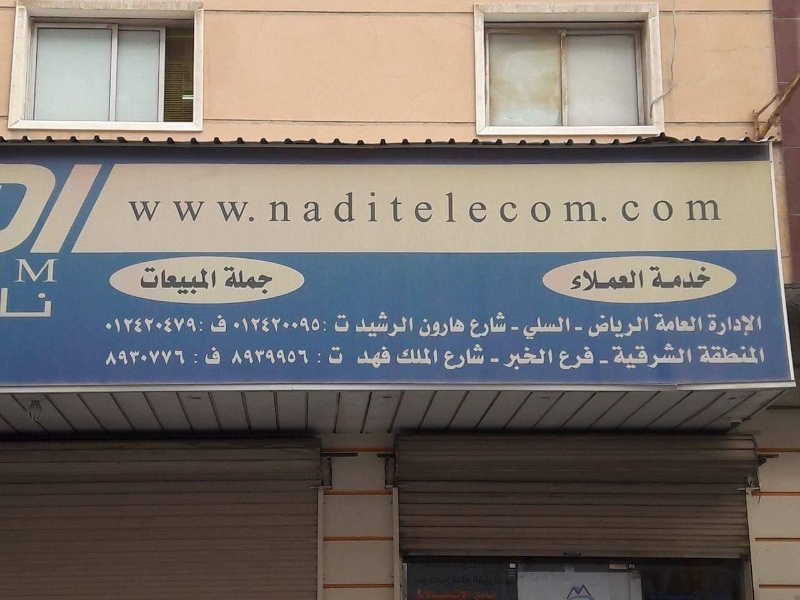text: (129, 189, 144, 227), (145, 189, 160, 227), (161, 189, 176, 227), (177, 189, 192, 227), (193, 189, 208, 227), (209, 189, 224, 227), (225, 189, 240, 227), (241, 189, 256, 227), (257, 189, 272, 227), (273, 189, 288, 227), (289, 189, 304, 227), (305, 189, 320, 227), (321, 189, 336, 227), (337, 189, 352, 227), (353, 189, 368, 227), (369, 189, 384, 227), (385, 189, 400, 227), (401, 189, 416, 227), (417, 189, 432, 227), (433, 189, 448, 227), (449, 189, 464, 227), (465, 189, 480, 227), (481, 189, 496, 227), (497, 189, 512, 227), (513, 189, 528, 227), (529, 189, 544, 227), (545, 189, 560, 227), (561, 189, 576, 227), (577, 189, 592, 227), (593, 189, 608, 227), (609, 189, 624, 227), (625, 189, 640, 227), (641, 189, 656, 227), (657, 189, 672, 227), (673, 189, 688, 227), (689, 189, 704, 227), (705, 189, 720, 227), (257, 265, 273, 296), (225, 265, 240, 296), (241, 265, 256, 296), (1, 288, 16, 319), (17, 288, 32, 319), (33, 288, 48, 319), (145, 267, 160, 297), (161, 267, 176, 297), (177, 267, 192, 297), (193, 267, 208, 297), (449, 342, 464, 371), (465, 342, 480, 371), (17, 257, 32, 285), (33, 257, 48, 285), (353, 311, 368, 339), (369, 311, 384, 339), (385, 311, 400, 339), (481, 310, 496, 338), (625, 343, 640, 370), (641, 343, 656, 370), (657, 343, 672, 370), (673, 343, 688, 370), (401, 311, 415, 339), (593, 313, 608, 339), (609, 313, 624, 339), (625, 313, 640, 339), (561, 345, 576, 371), (577, 345, 592, 371), (657, 264, 672, 289), (673, 264, 688, 289), (689, 264, 704, 289), (529, 316, 544, 341), (545, 316, 560, 341), (497, 310, 510, 338), (513, 347, 528, 371), (529, 347, 544, 371), (369, 345, 384, 369), (577, 269, 592, 292), (593, 269, 608, 292), (609, 269, 624, 292), (625, 269, 640, 292), (433, 316, 448, 339), (449, 316, 464, 339), (721, 314, 736, 337), (737, 314, 752, 337), (337, 311, 352, 334), (705, 344, 720, 366), (721, 344, 736, 366), (737, 344, 752, 366), (689, 313, 705, 333), (401, 346, 416, 367), (417, 346, 432, 367), (469, 310, 480, 338), (657, 313, 672, 333), (673, 313, 688, 333), (209, 314, 224, 334), (419, 316, 432, 339), (613, 343, 624, 370), (305, 316, 321, 334), (753, 344, 766, 366), (113, 316, 128, 335), (129, 316, 144, 335), (145, 316, 160, 335), (161, 316, 176, 335), (177, 316, 192, 335), (49, 257, 59, 285), (708, 314, 720, 337), (209, 346, 222, 367), (241, 316, 256, 334), (257, 316, 272, 334), (273, 316, 288, 334), (289, 316, 304, 334), (241, 349, 256, 367), (257, 349, 272, 367), (273, 349, 288, 367), (289, 349, 304, 367), (357, 345, 368, 369), (113, 350, 128, 367), (129, 350, 144, 367), (145, 350, 160, 367), (161, 350, 176, 367), (561, 316, 571, 341), (209, 267, 217, 297), (641, 313, 650, 339), (545, 347, 554, 371), (326, 346, 336, 367), (322, 319, 336, 334), (753, 314, 762, 337), (229, 349, 240, 367), (504, 347, 512, 371), (568, 269, 576, 292), (103, 316, 112, 335), (102, 350, 112, 367), (177, 350, 187, 367), (385, 345, 392, 369), (337, 346, 345, 367), (417, 589, 432, 600), (433, 589, 448, 600), (449, 589, 464, 600), (650, 264, 656, 289), (705, 264, 711, 289), (198, 320, 208, 335), (481, 590, 496, 600), (232, 316, 240, 334), (587, 313, 592, 339), (433, 346, 439, 367), (523, 316, 528, 341), (49, 288, 53, 319), (140, 267, 144, 297), (481, 342, 485, 371), (641, 269, 646, 292), (699, 344, 704, 366), (689, 343, 693, 370), (487, 355, 496, 367), (193, 351, 199, 367), (193, 316, 198, 335), (305, 349, 310, 367), (445, 342, 448, 371), (204, 346, 208, 367), (513, 323, 521, 333), (225, 314, 229, 334), (472, 590, 480, 600), (465, 589, 472, 600), (126, 189, 128, 227), (577, 323, 584, 332), (222, 265, 224, 296), (316, 351, 320, 366), (497, 355, 502, 367), (14, 257, 16, 285), (600, 359, 608, 366), (411, 589, 416, 600), (593, 345, 595, 371), (321, 351, 324, 366), (398, 346, 400, 367), (654, 313, 656, 333), (721, 189, 722, 227), (509, 323, 512, 333), (497, 590, 500, 600), (573, 323, 576, 332), (559, 345, 560, 371), (465, 316, 466, 339), (335, 311, 336, 334), (609, 359, 610, 366)
